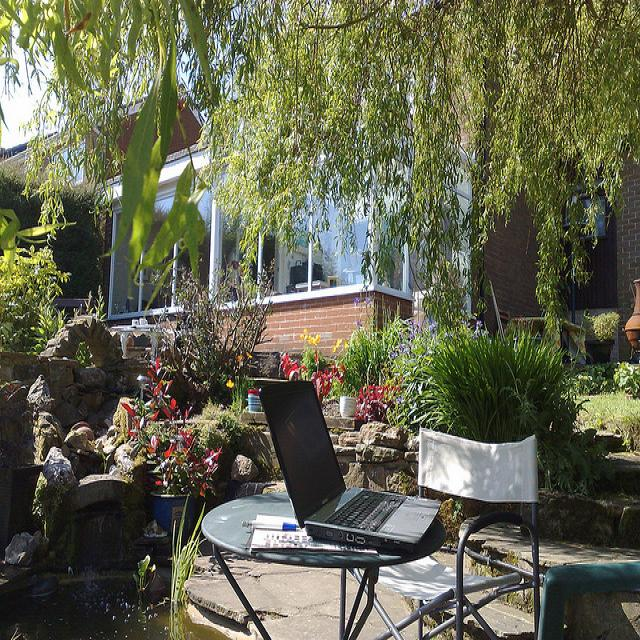chair: (379, 426, 538, 630), (535, 560, 640, 640)
dining table: (200, 491, 449, 570)
